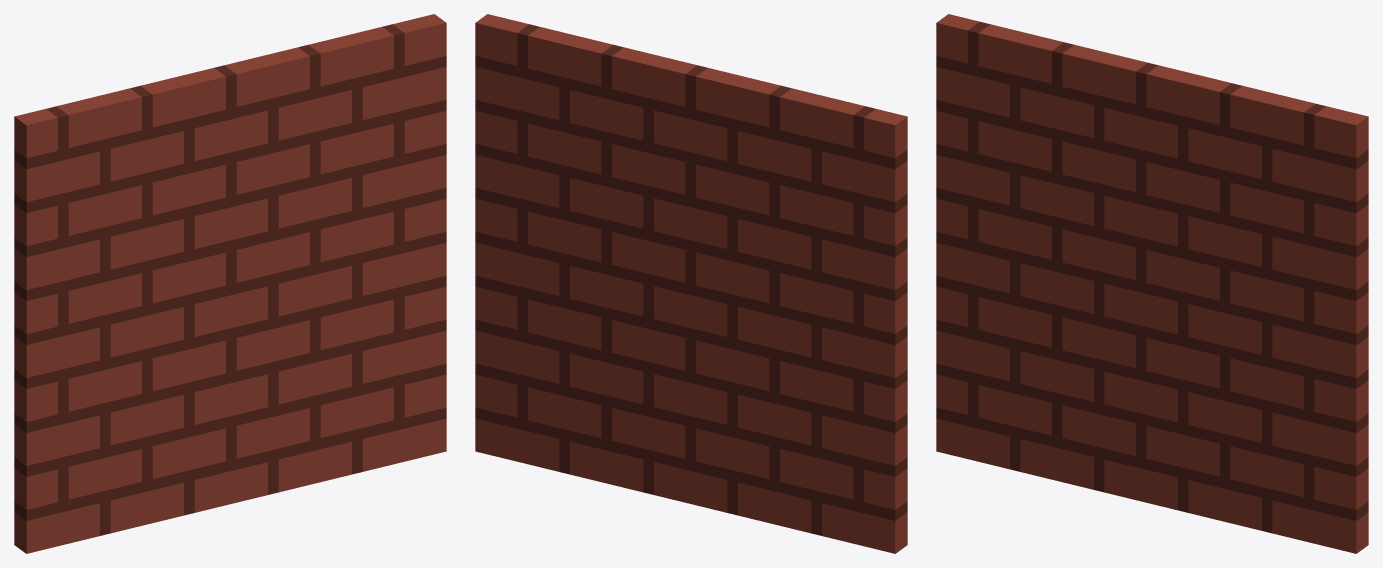
File: ConstructionMaterials-54.obj
3 views of the same model, side by side, from view 1: azimuth 30°, elevation 25°; view 2: azimuth 150°, elevation 25°; view 3: azimuth 330°, elevation 25° (orthographic).
Bounding box in the file's own units: 4 × 3.9 × 0.2.
Materials: 1 (1 with a texture image).
